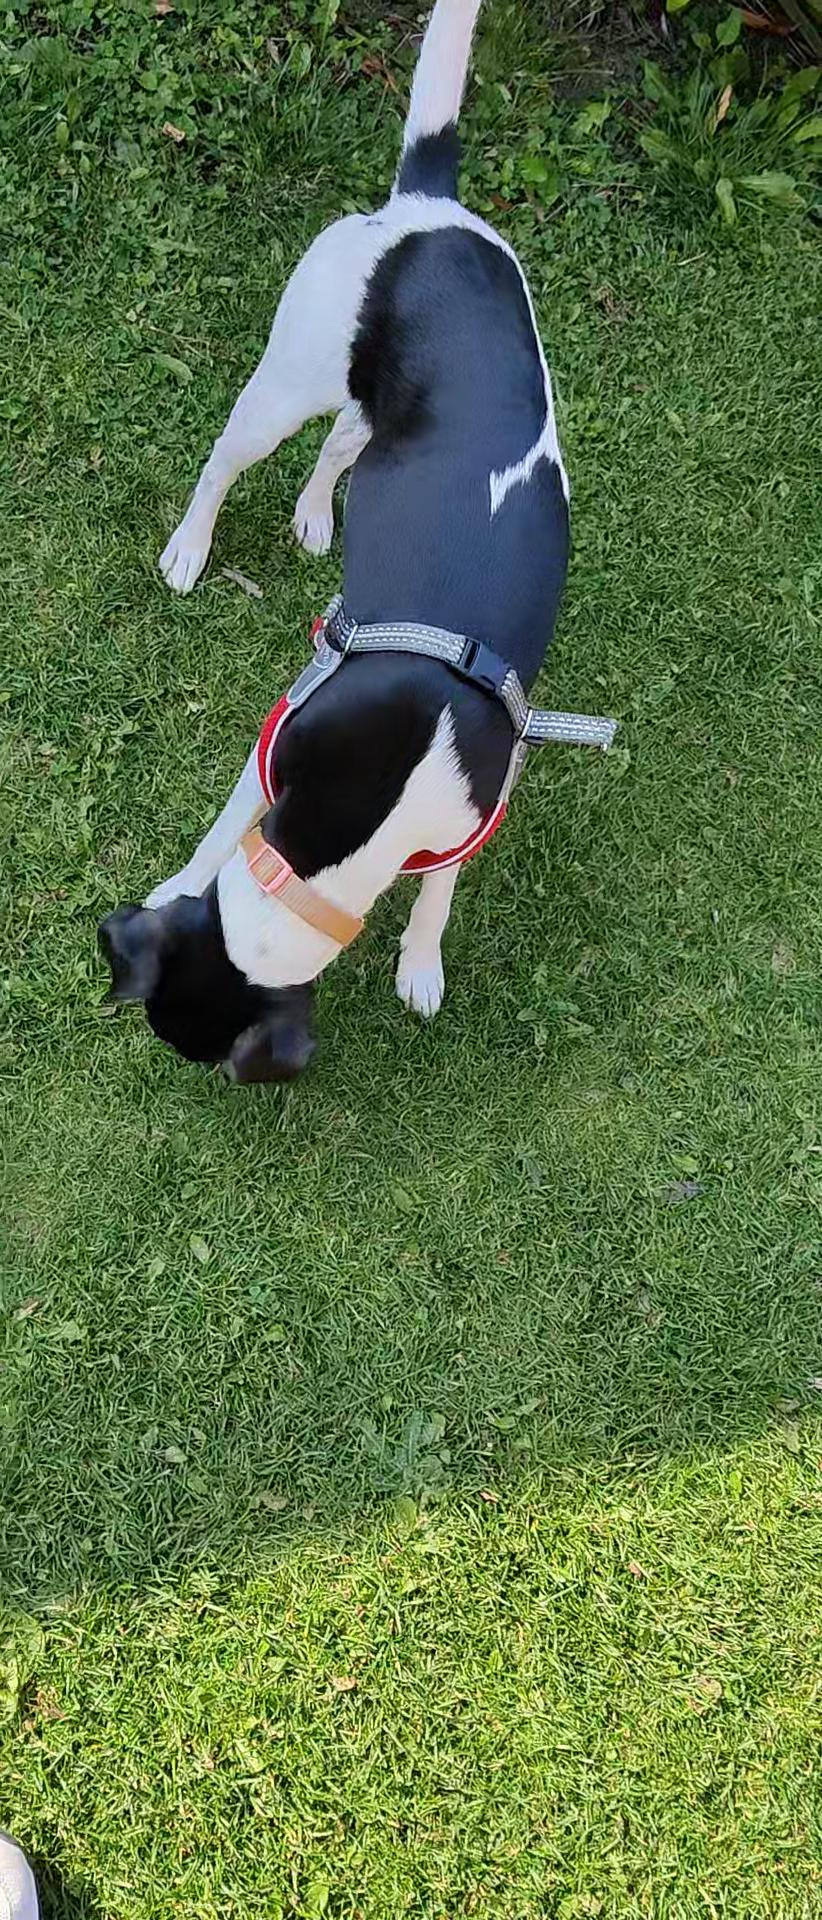Dog: (58, 0, 636, 1109)
